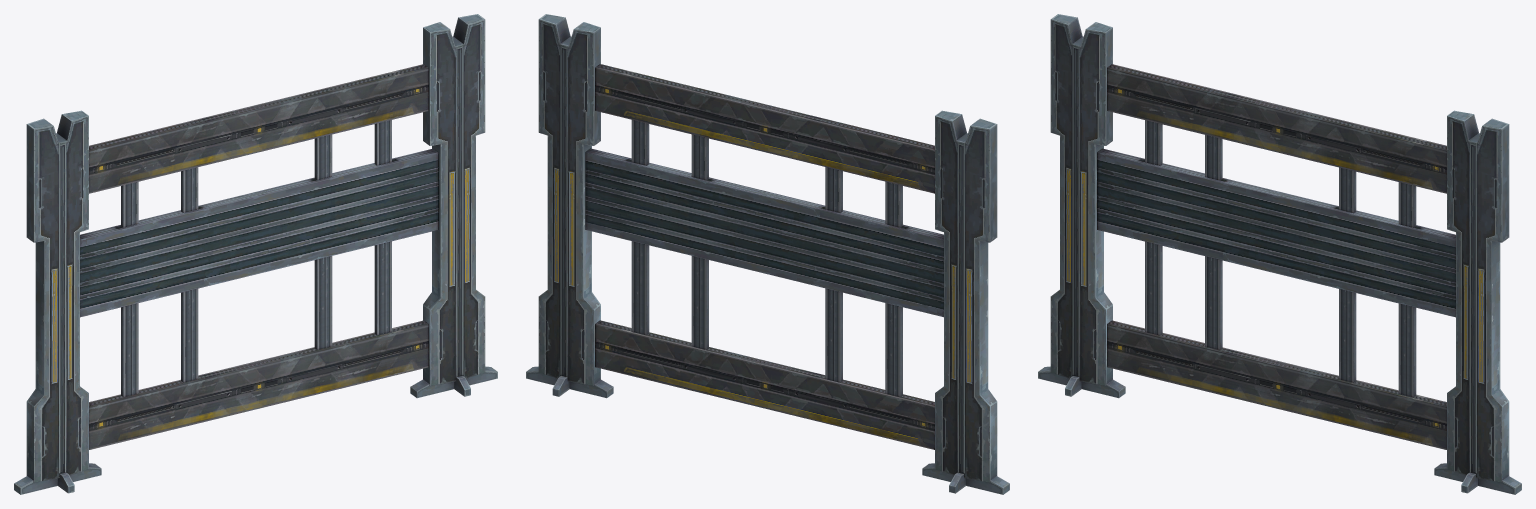
File: all_arch_rep_fence.glb
3 renders of one model, left to right at view 1: azimuth 30°, elevation 25°; view 2: azimuth 150°, elevation 25°; view 3: azimuth 330°, elevation 25°, orthographic.
Visible parts, largest first — view 1: all_arch_rep_fence; view 2: all_arch_rep_fence; view 3: all_arch_rep_fence.
Part boxes in pixels (<box>): all_arch_rep_fence: <box>14,14,497,494</box>; all_arch_rep_fence: <box>526,14,1009,494</box>; all_arch_rep_fence: <box>1038,14,1521,494</box>.
Size of the model in its own units: 0.3989 by 0.2897 by 0.0399.
1 material, 1 textured.
